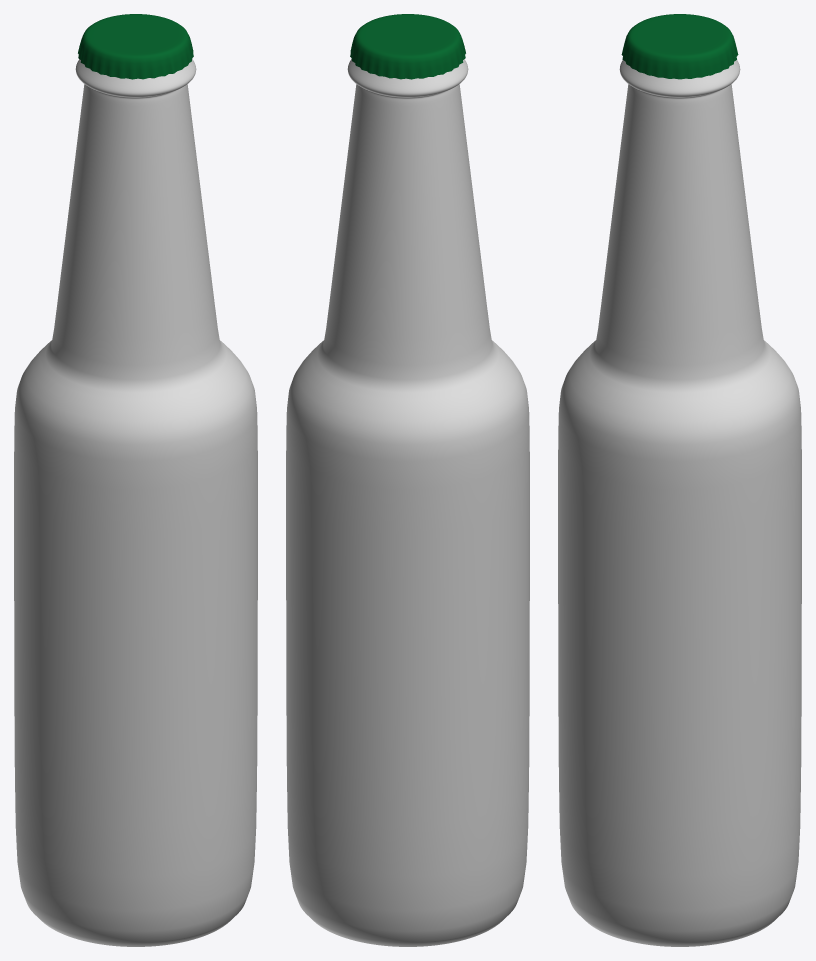
File: beer.fbx
3 renders of one model, left to right at view 1: azimuth 30°, elevation 25°; view 2: azimuth 150°, elevation 25°; view 3: azimuth 270°, elevation 25°, orthographic.
Parts seen in each view (by area): view 1: Circle, Circle.001; view 2: Circle, Circle.001; view 3: Circle, Circle.001.
Part boxes in pixels (x1,y1,x2,y2): Circle: (14, 59, 257, 946); Circle.001: (78, 14, 193, 79); Circle: (286, 59, 529, 946); Circle.001: (350, 14, 465, 79); Circle: (558, 60, 801, 946); Circle.001: (621, 14, 738, 79).
Size of the model in its own units: 4.11 by 16.22 by 4.11.
